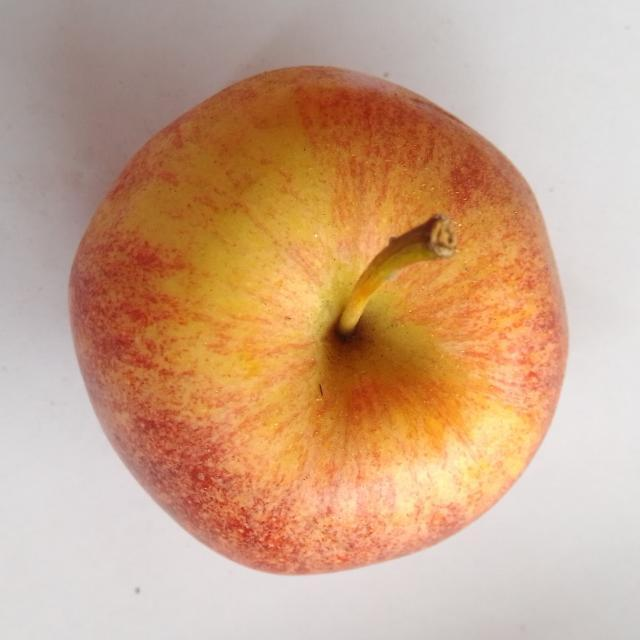Fresh Apple: (58, 57, 572, 578)
